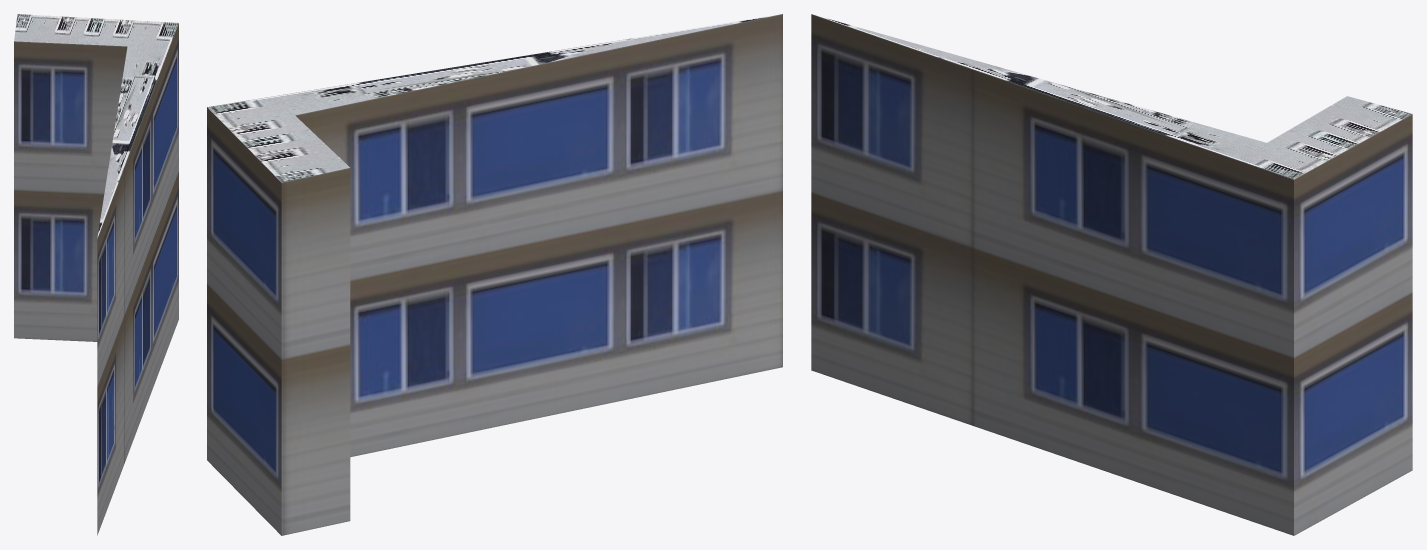
Rendered from ResTex__2847.fbx.
3 renders of one model, left to right at view 1: azimuth 30°, elevation 25°; view 2: azimuth 150°, elevation 25°; view 3: azimuth 270°, elevation 25°, orthographic. The views are drawn at different scales.
Parts seen in each view (by area): view 1: CityEngineMaterial_23_m, CityEngineMaterial_4_m; view 2: CityEngineMaterial_23_m, CityEngineMaterial_4_m; view 3: CityEngineMaterial_23_m, CityEngineMaterial_4_m.
Boxes of the visible parts, x1,y1,x2,y2 form: CityEngineMaterial_23_m: [14, 23, 178, 535]; CityEngineMaterial_4_m: [14, 14, 178, 238]; CityEngineMaterial_23_m: [207, 14, 782, 535]; CityEngineMaterial_4_m: [207, 14, 778, 182]; CityEngineMaterial_23_m: [811, 14, 1412, 535]; CityEngineMaterial_4_m: [815, 15, 1411, 179].
Size of the model in its own units: 5.98 by 6 by 9.18.
2 materials, 2 textured.
